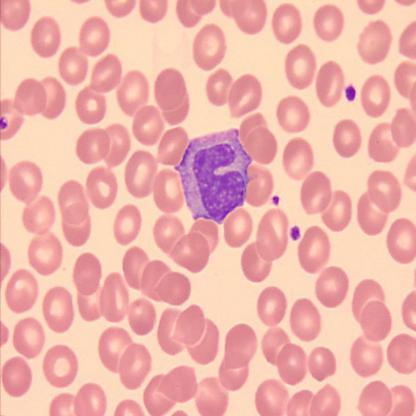Monocyte: (172, 124, 261, 226)
